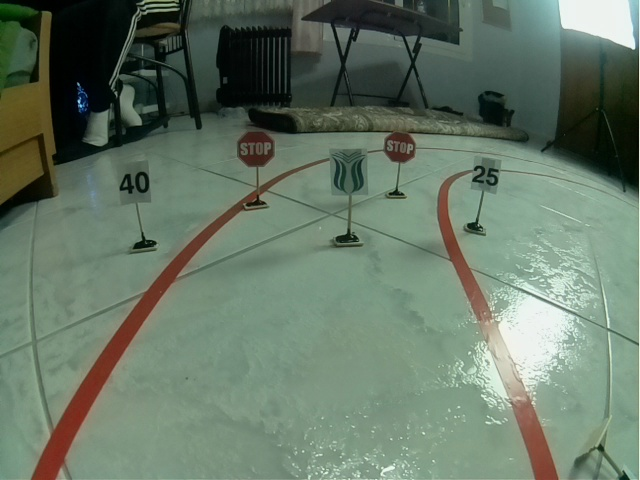Speed Limit 25: (471, 156, 502, 195)
Speed Limit 40: (118, 161, 152, 205)
Stop: (236, 130, 276, 168), (382, 130, 417, 164)
Subu: (329, 147, 369, 196)
